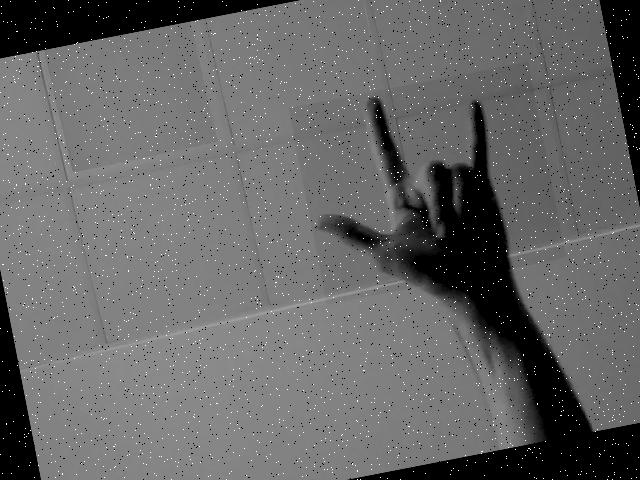I_Love_You: (288, 61, 566, 304)
